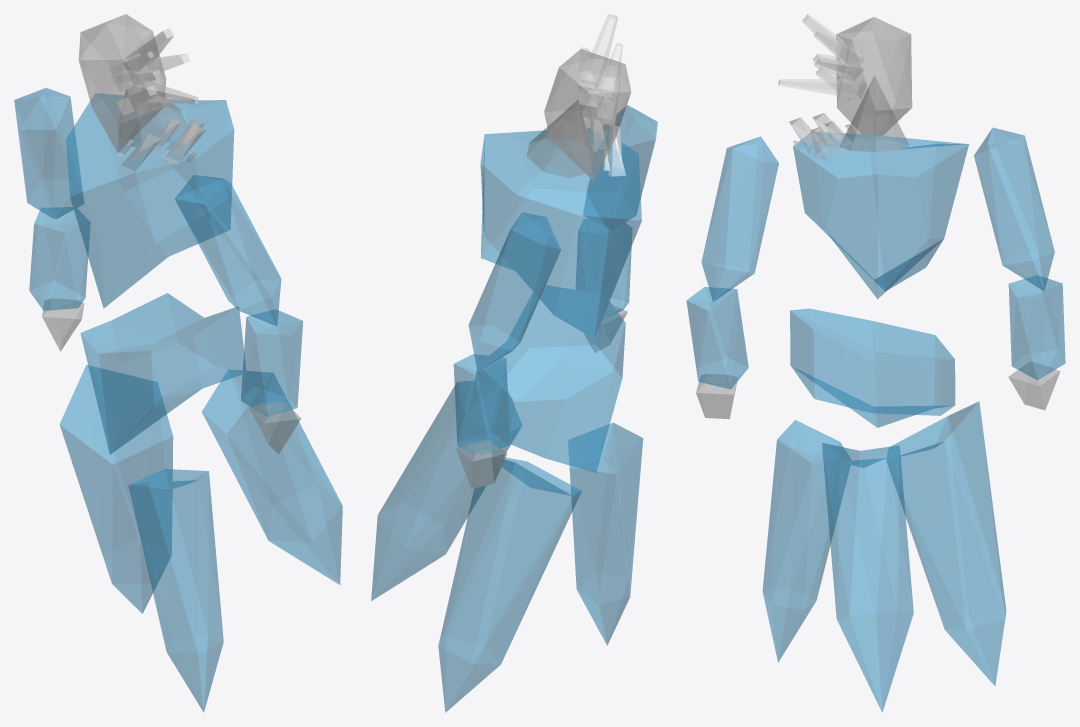
File: ghostChargingLunge19.obj
3 renders of one model, left to right at view 1: azimuth 30°, elevation 25°; view 2: azimuth 150°, elevation 25°; view 3: azimuth 270°, elevation 25°, orthographic. The views are drawn at different scales.
Visible parts, largest first — view 1: Cube.001_Cube.006, Icosphere.017, Icosphere.016, Cube_Cube.006, Icosphere.015, Icosphere.005_Icosphere.005, Icosphere.003_Icosphere.006, Icosphere.007_Icosphere.005, Icosphere.006_Icosphere.005, Icosphere.008_Icosphere.005, Cone_Cone.006, Cube.002_Cube.006 (+8 smaller); view 2: Cube.001_Cube.006, Cube_Cube.006, Icosphere.017, Icosphere.016, Icosphere.015, Icosphere.007_Icosphere.005, Icosphere.003_Icosphere.006, Icosphere.008_Icosphere.005, Icosphere.005_Icosphere.005, Icosphere.006_Icosphere.005, Cone_Cone.006, Cube.003_Cube.006 (+4 smaller); view 3: Cube.001_Cube.006, Icosphere.017, Icosphere.016, Cube_Cube.006, Icosphere.015, Icosphere.007_Icosphere.005, Icosphere.005_Icosphere.005, Icosphere.003_Icosphere.006, Icosphere.008_Icosphere.005, Icosphere.006_Icosphere.005, Cone_Cone.006, Cube.003_Cube.006 (+5 smaller).
Boxes of the visible parts, x1,y1,x2,y2 form: Cube.001_Cube.006: (66,93,234,308); Icosphere.017: (59,365,173,613); Icosphere.016: (202,370,342,584); Cube_Cube.006: (80,293,246,454); Icosphere.015: (128,469,223,712); Icosphere.005_Icosphere.005: (175,175,281,326); Icosphere.003_Icosphere.006: (78,14,166,152); Icosphere.007_Icosphere.005: (14,88,83,218); Icosphere.006_Icosphere.005: (241,309,303,416); Icosphere.008_Icosphere.005: (29,207,90,310); Cone_Cone.006: (116,89,186,146); Cube.002_Cube.006: (249,401,300,454); Cube.001_Cube.006: (480,128,641,338); Cube_Cube.006: (467,285,625,472); Icosphere.017: (438,454,581,712); Icosphere.016: (371,381,521,600); Icosphere.015: (568,422,643,645); Icosphere.007_Icosphere.005: (468,212,560,371); Icosphere.003_Icosphere.006: (544,49,631,180); Icosphere.008_Icosphere.005: (453,354,509,456); Icosphere.005_Icosphere.005: (583,105,657,229); Icosphere.006_Icosphere.005: (576,219,632,315); Cone_Cone.006: (527,100,592,177); Cube.003_Cube.006: (456,439,506,488); Cube.001_Cube.006: (793,132,968,298); Icosphere.017: (886,402,1006,685); Icosphere.016: (822,443,913,712); Cube_Cube.006: (790,308,955,427); Icosphere.015: (762,420,851,662); Icosphere.007_Icosphere.005: (974,127,1054,291); Icosphere.005_Icosphere.005: (701,136,778,301); Icosphere.003_Icosphere.006: (836,17,912,135); Icosphere.008_Icosphere.005: (1008,275,1065,380); Icosphere.006_Icosphere.005: (686,287,748,389); Cone_Cone.006: (839,75,909,151); Cube.003_Cube.006: (1008,361,1060,410).
Size of the model in its own units: 20.77 by 48.57 by 26.17.
